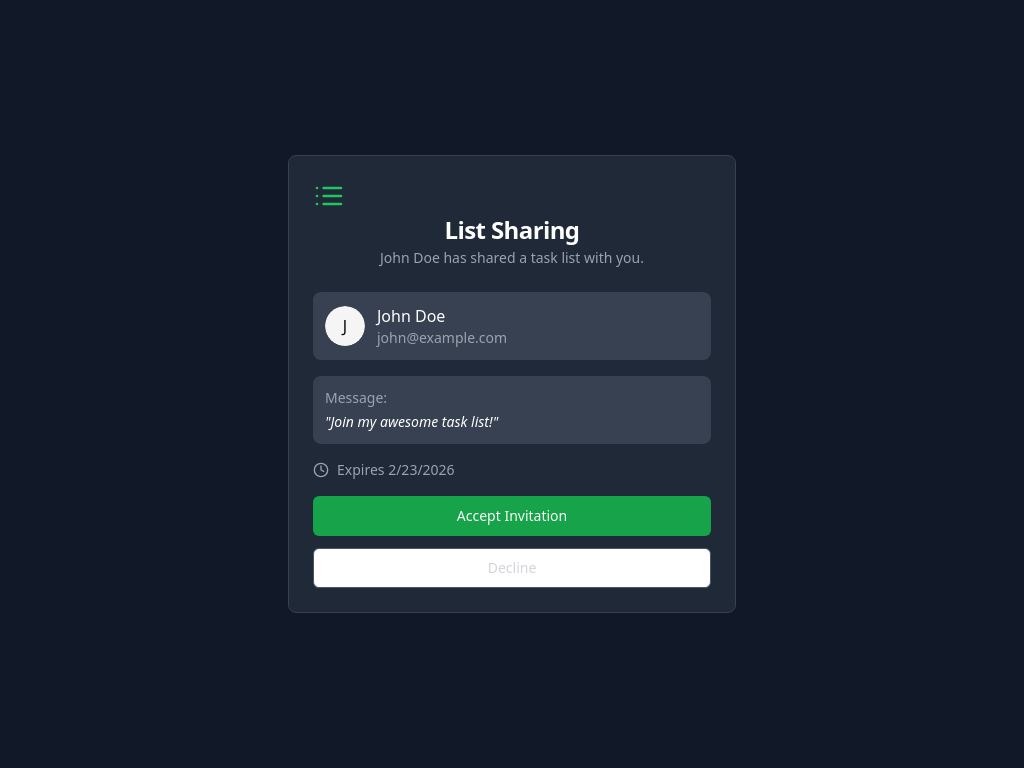
Test case: InvitePage › User Actions › shows error when accepting invitation fails
Click the button "Accept Invitation": [512, 516] box [313,496,711,536]
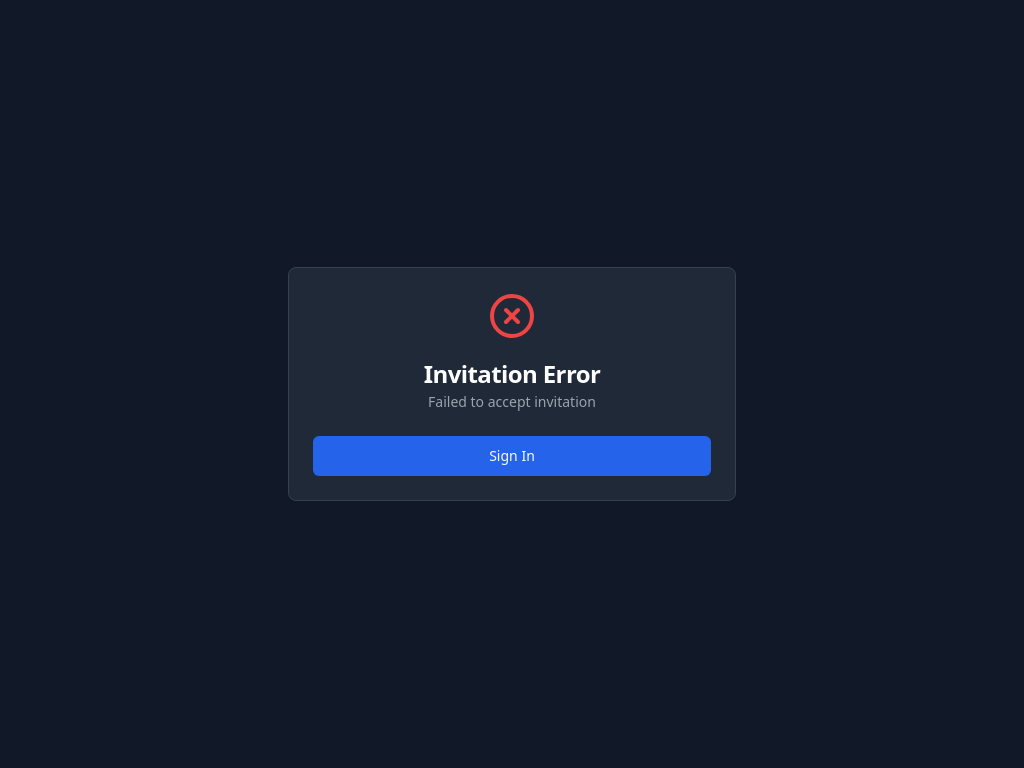
expect the text "Invitation Error" is shown: met, box [424,357,600,390]
expect the text "Failed to accept invitation" is shown: met, box [428,392,596,411]
